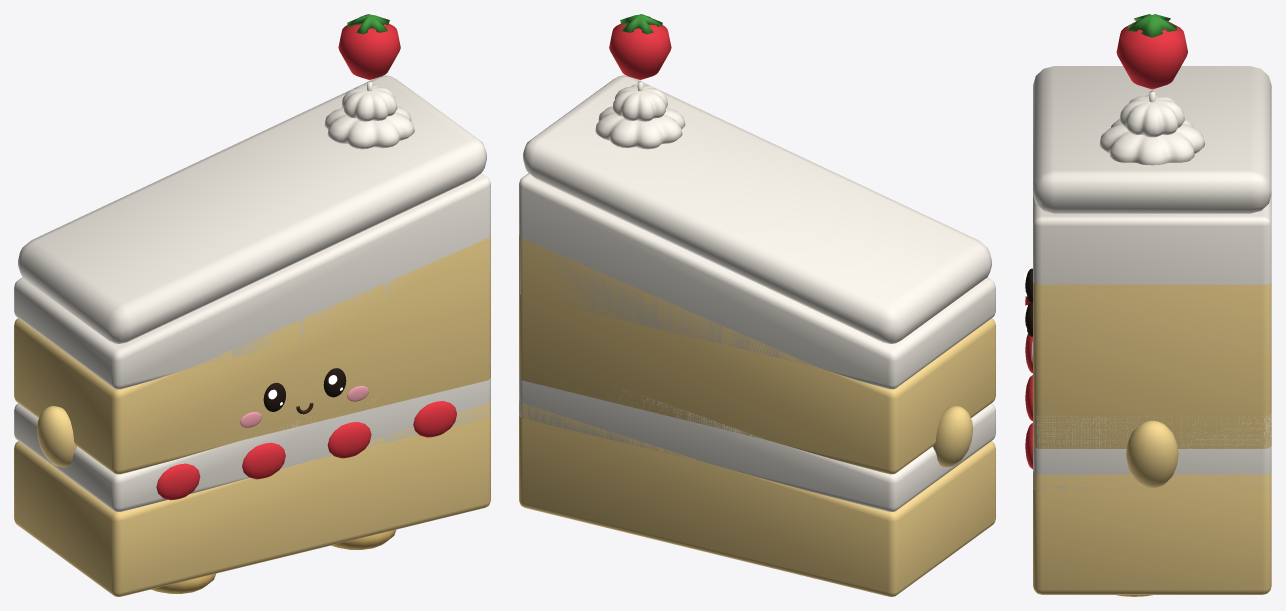
The model's file is shortcake.glb.
3 views of the same model, side by side, from view 1: azimuth 30°, elevation 25°; view 2: azimuth 150°, elevation 25°; view 3: azimuth 270°, elevation 25° (orthographic). The views are drawn at different scales.
Visible parts, largest first — view 1: shortcake; view 2: shortcake; view 3: shortcake.
Boxes of the visible parts, x1=… form: shortcake: x1=14, y1=14, x2=490, y2=596; shortcake: x1=519, y1=14, x2=995, y2=596; shortcake: x1=1024, y1=14, x2=1271, y2=596.
Bounding box in the file's own units: 0.0943 × 0.1089 × 0.0415.
